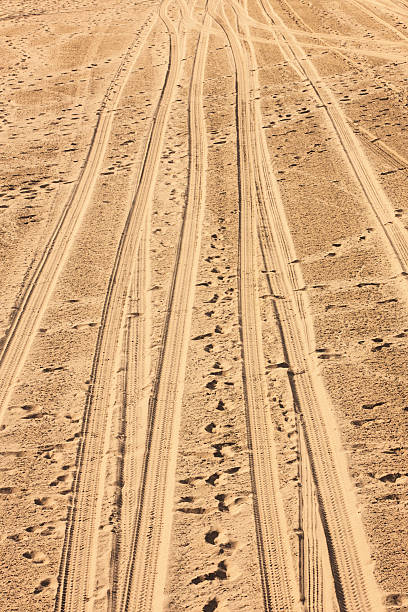vehicle_track: (55, 0, 183, 611), (0, 14, 155, 421), (255, 111, 381, 611), (116, 7, 211, 611), (214, 10, 298, 611), (261, 0, 407, 273), (108, 215, 151, 609), (234, 3, 279, 269)
